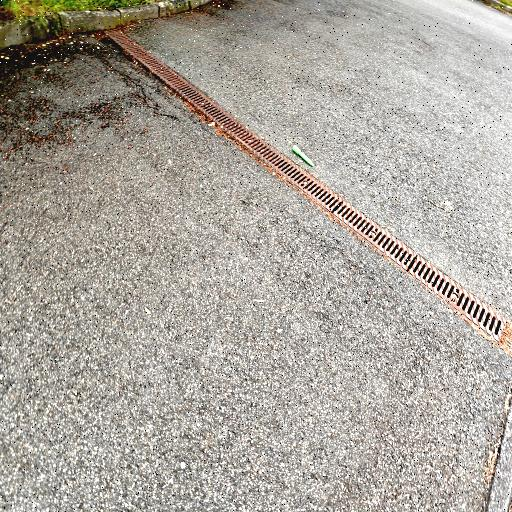Probe-Detection: (292, 145, 314, 166)
